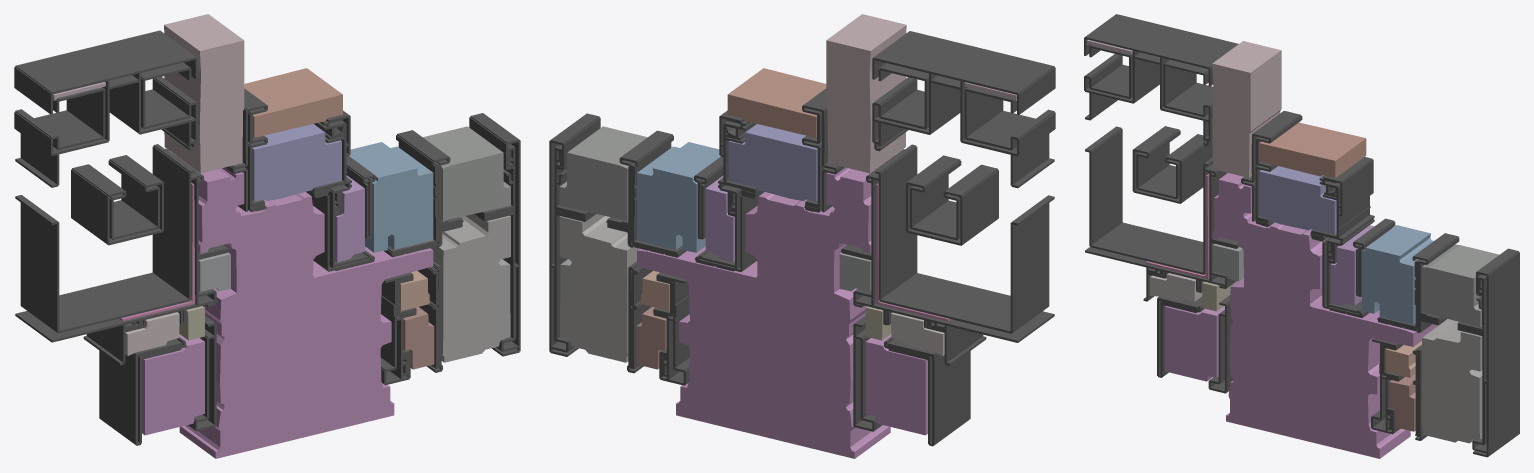
The picture shows the model from 3 angles, left to right: view 1: azimuth 30°, elevation 25°; view 2: azimuth 150°, elevation 25°; view 3: azimuth 330°, elevation 25°; orthographic projection. The views are drawn at different scales.
Parts seen in each view (by area): view 1: rooms, walls; view 2: rooms, walls; view 3: rooms, walls.
Part boxes in pixels (x1,y1,x2,y2): rooms: [53, 14, 510, 458]; walls: [14, 30, 520, 445]; rooms: [559, 14, 1016, 458]; walls: [549, 31, 1055, 446]; rooms: [1087, 39, 1499, 458]; walls: [1084, 14, 1519, 457].
Bounding box in the file's own units: 22.4 × 18.76 × 3.02.
